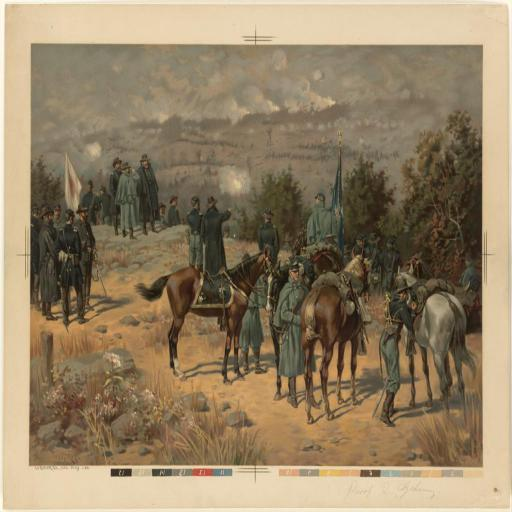horse: (132, 245, 276, 382), (300, 247, 372, 427), (394, 264, 480, 410), (262, 255, 317, 401), (292, 226, 342, 280)
